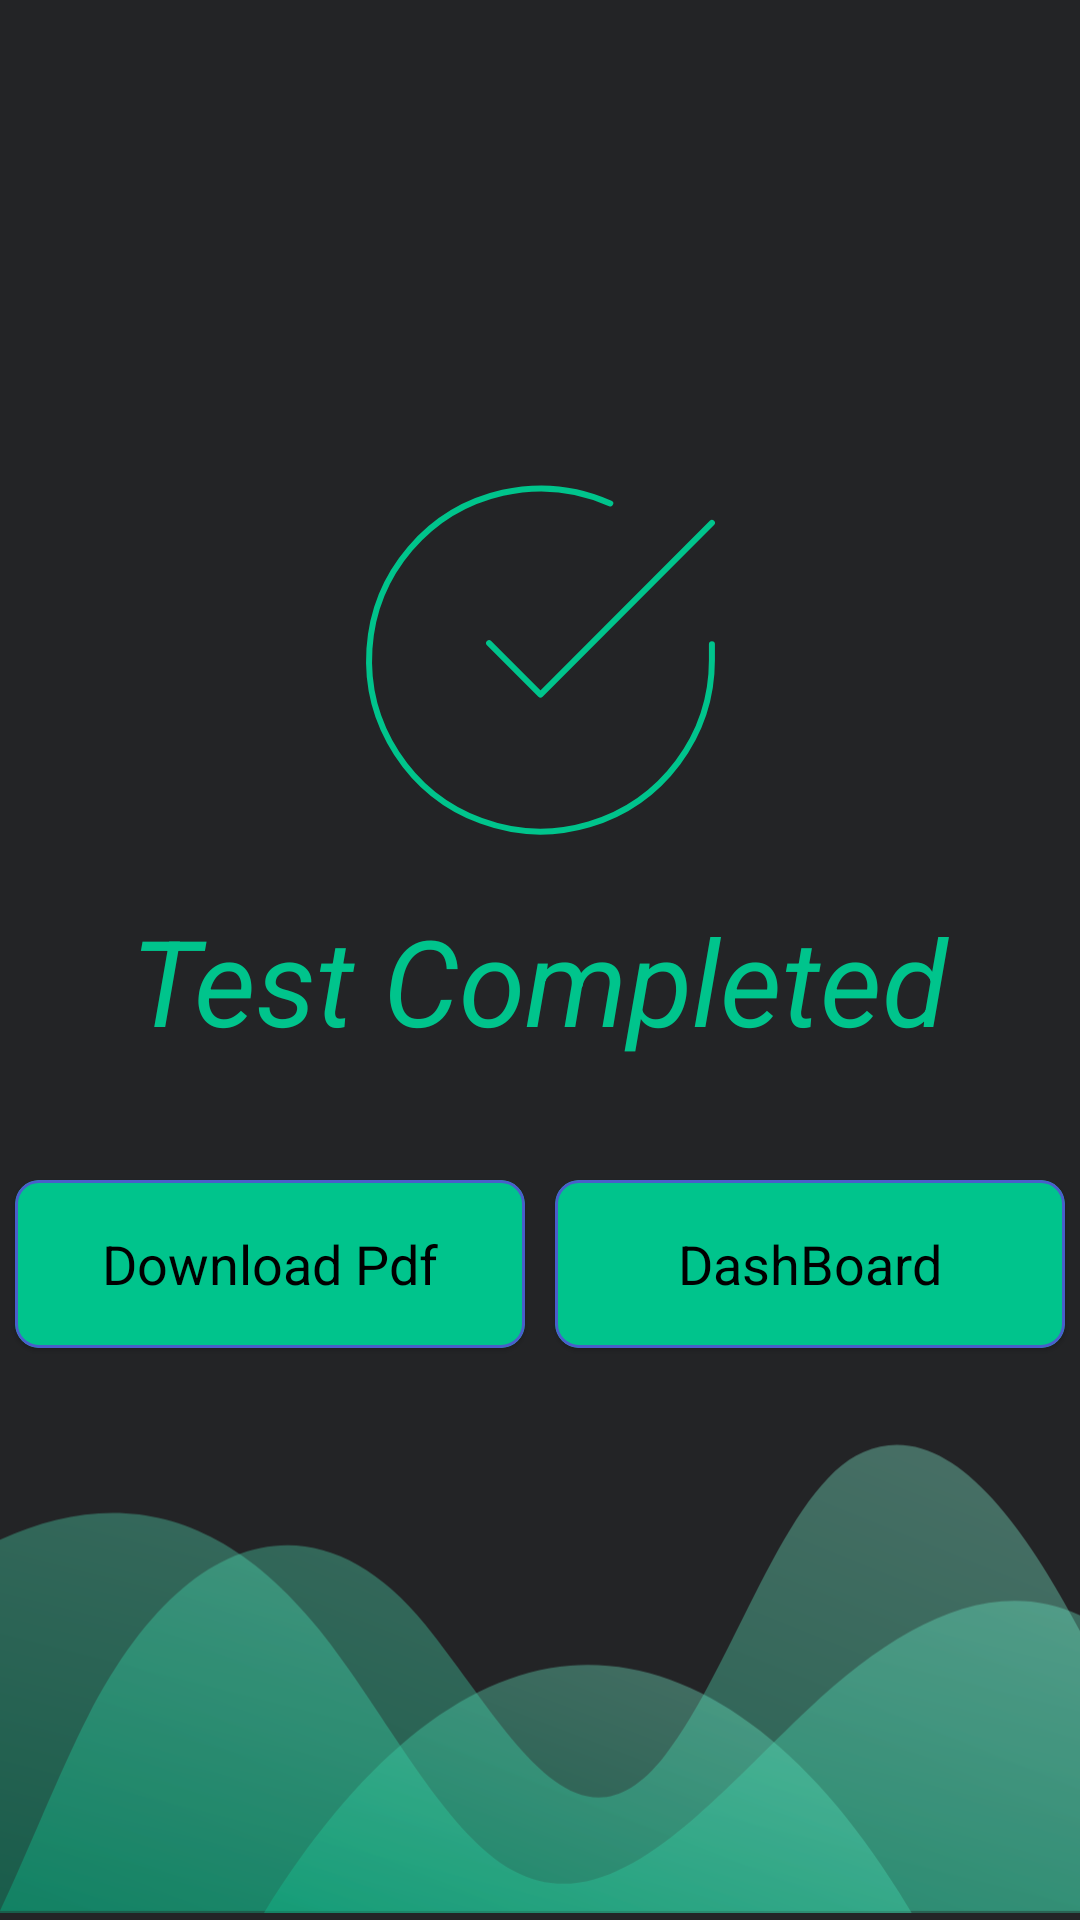

Icon bounding boxes for this 1080px x 1920px phone screenshot, format [x1=x1, y1=y1, x2=x2, y2=y2]:
check circle: [x1=366, y1=485, x2=715, y2=835]
